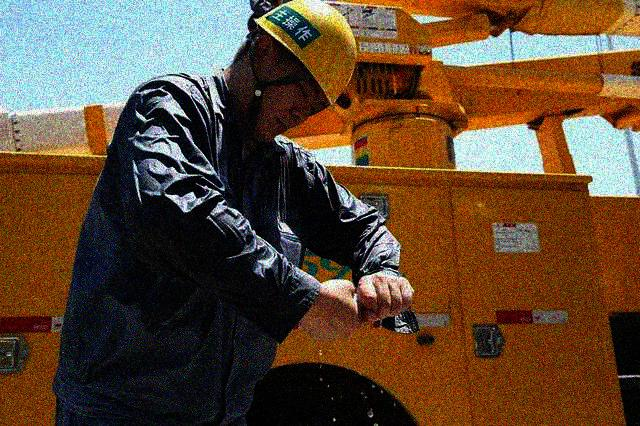helmet: (233, 1, 360, 146)
